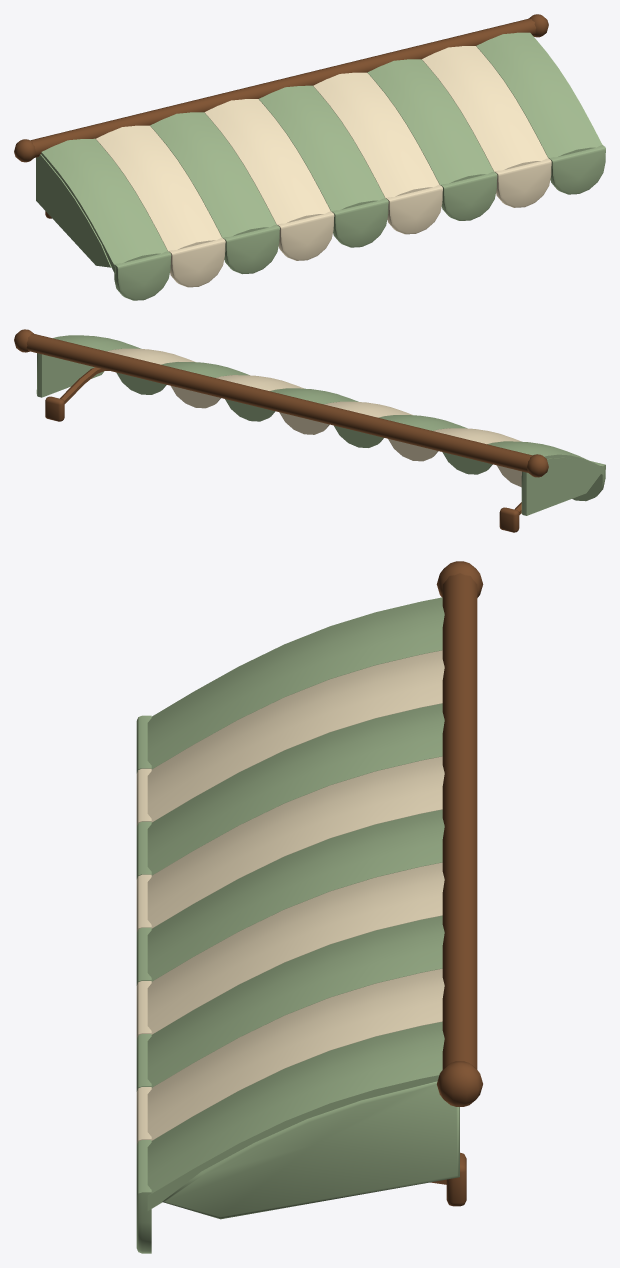
Rendered from ShopAwning.fbx.
3 views of the same model, one above another, from view 1: azimuth 30°, elevation 25°; view 2: azimuth 150°, elevation 25°; view 3: azimuth 270°, elevation 25° (orthographic). The views are drawn at different scales.
Parts seen in each view (by area): view 1: ShopAwning; view 2: ShopAwning; view 3: ShopAwning.
Boxes of the visible parts, x1,y1,x2,y2 form: ShopAwning: (14,14,605,300); ShopAwning: (14,329,605,532); ShopAwning: (136,561,483,1253).
Size of the model in its own units: 3.69 by 0.738 by 1.04.
